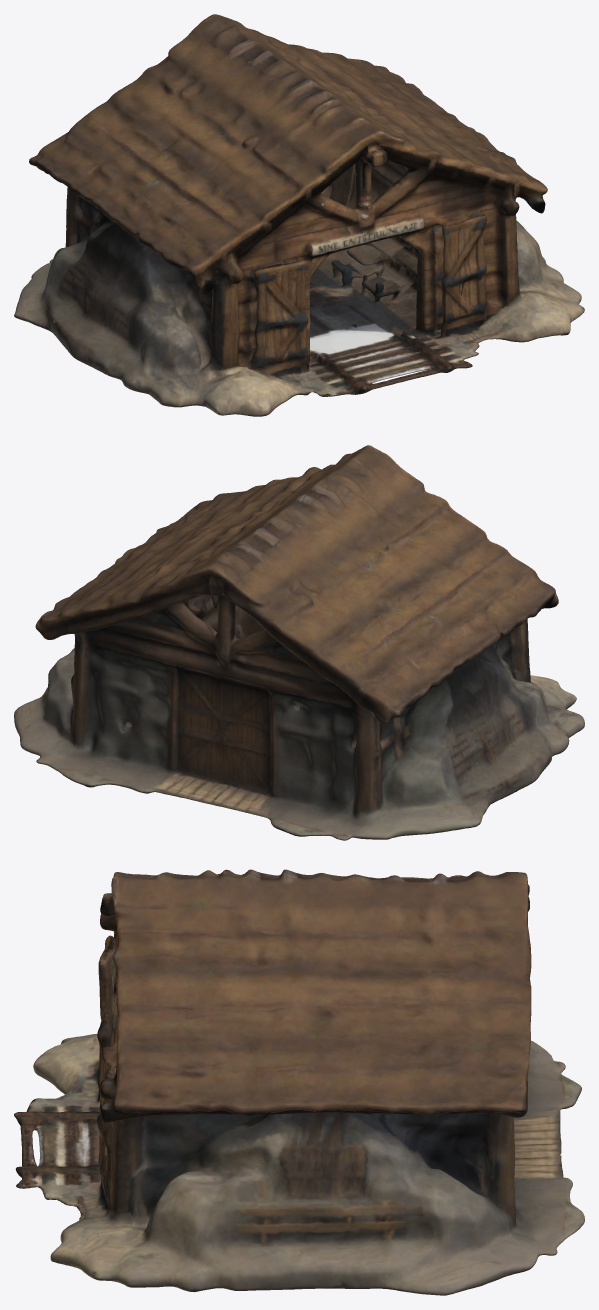
Rendered from mineshaft_entrance.glb.
3 views of the same model, one above another, from view 1: azimuth 30°, elevation 25°; view 2: azimuth 150°, elevation 25°; view 3: azimuth 270°, elevation 25° (orthographic). The views are drawn at different scales.
Bounding box in the file's own units: 2 × 0.9554 × 1.71.
1 material, 1 textured.
